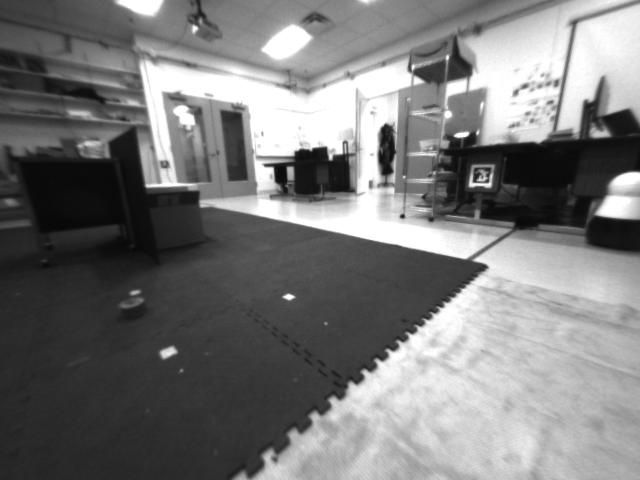dogtoy: (111, 288, 161, 325)
